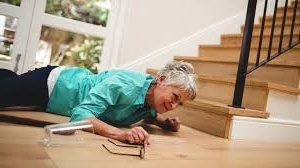fall: (1, 51, 211, 145)
